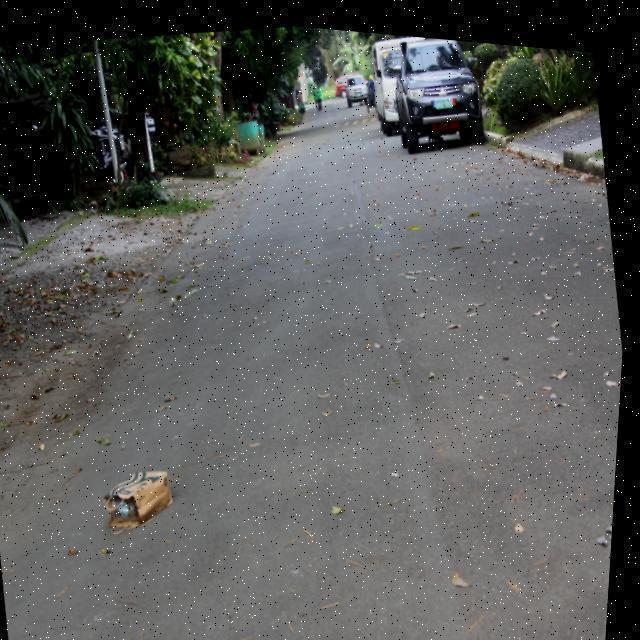Paper_Bag: (104, 462, 186, 536)
